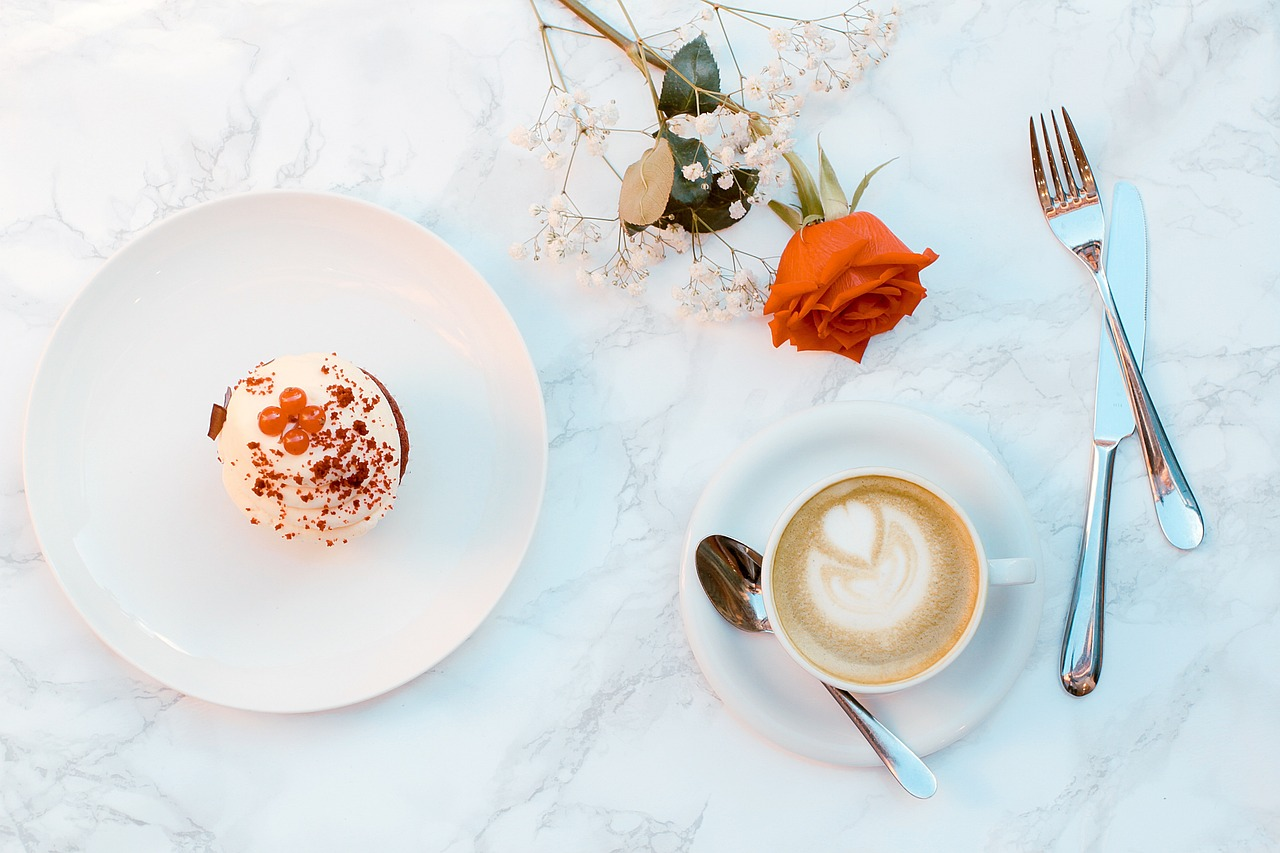knife: (1057, 175, 1156, 705)
